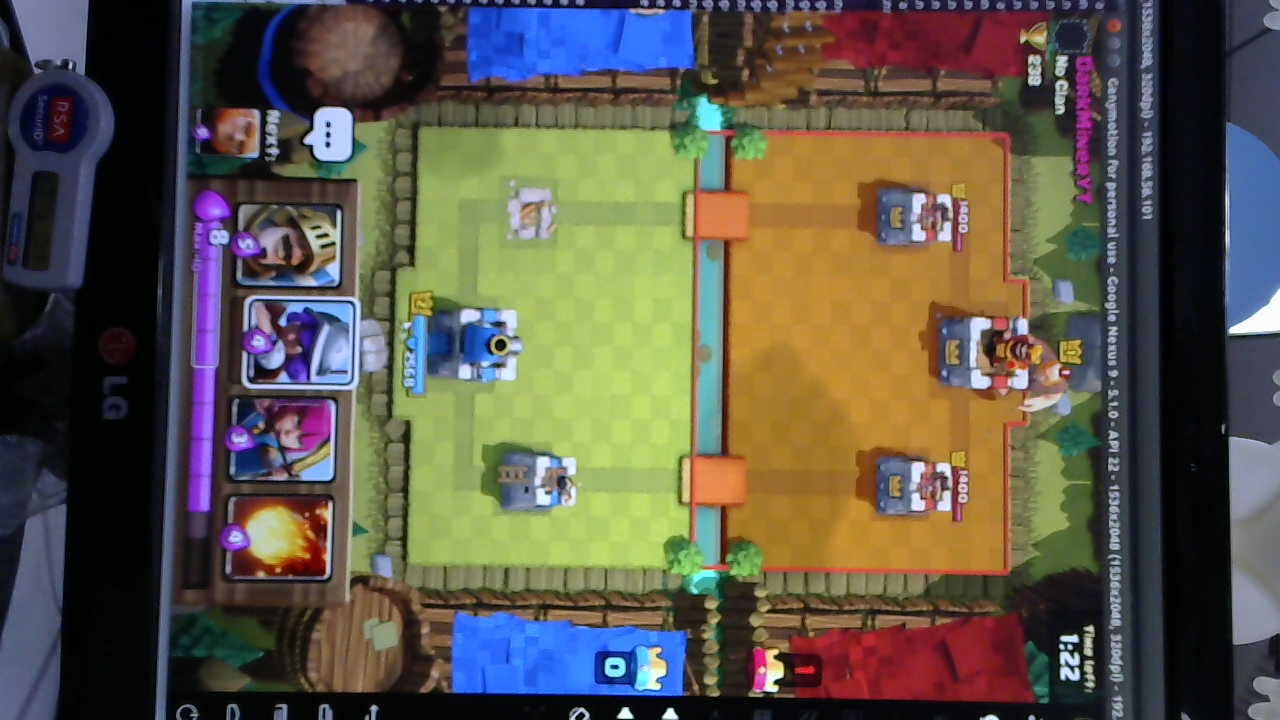arena: (502, 448, 579, 514)
darena: (504, 174, 560, 246)
earena: (871, 454, 955, 517), (869, 186, 954, 248)
eking: (939, 320, 1044, 394)
giant: (1028, 332, 1069, 414)
king: (435, 308, 526, 385)
